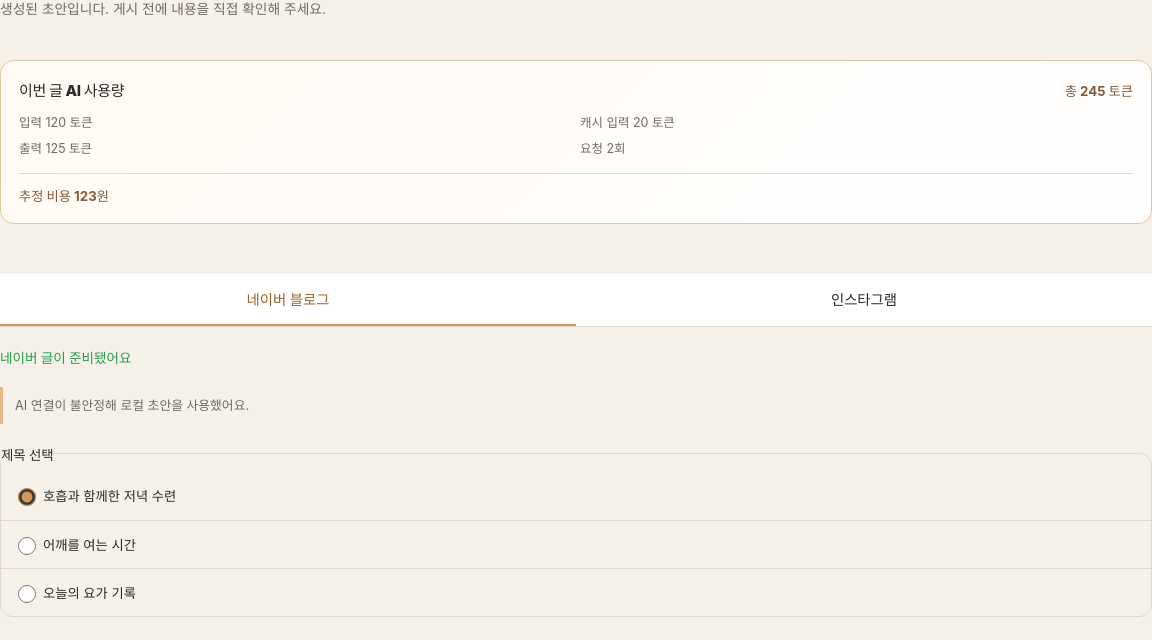
Scenario: ResultEditor › shows the fallback status only while the local Naver channel is active
Expected: the message reads "AI 연결이 불안정해 로컬 초안을 사용했어요.", [15,398,249,412]
Click the tab "인스타그램": (864, 300) [576,274,1151,326]
(page scrolled)
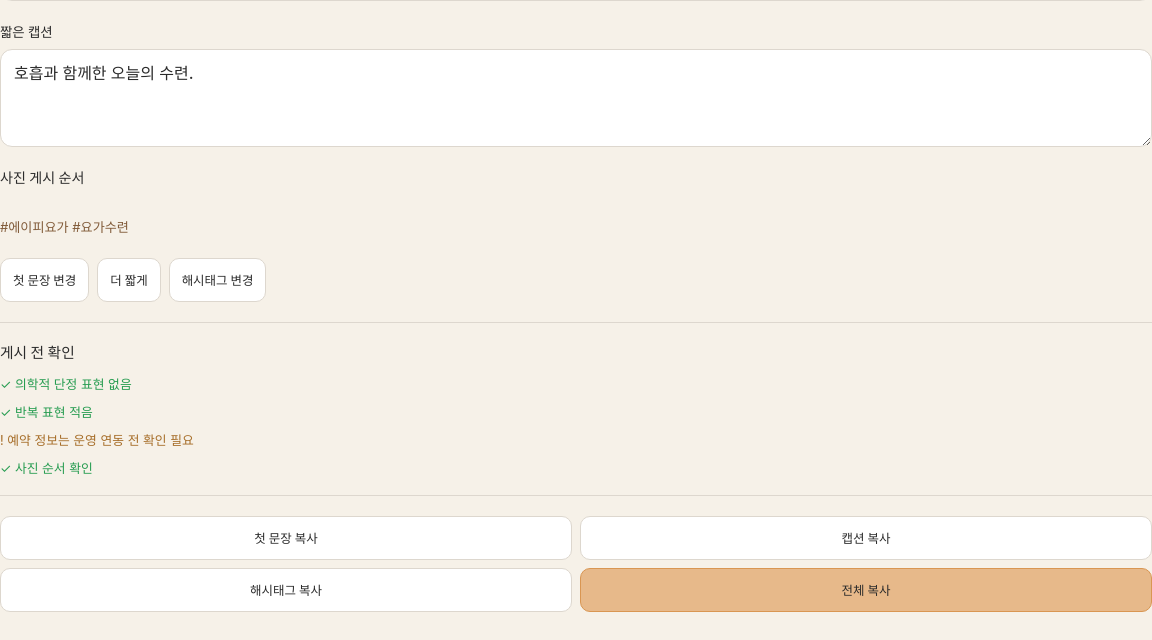
Now the text "AI 연결이 불안정해 로컬 초안을 사용했어요." is gone
Now the message "AI 연결이 불안정해 로컬 초안을 사용했어요." is gone
Now the button "첫 문장 변경" is enabled, box [0,258,89,302]
